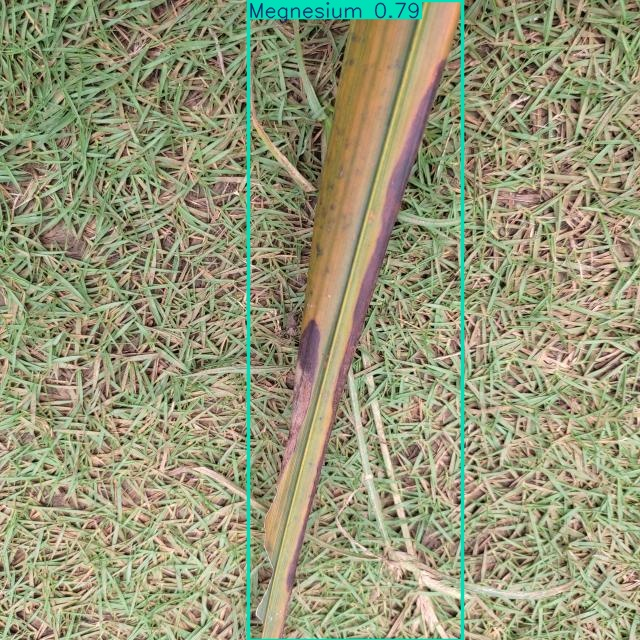Megnesium: (249, 0, 463, 640)
